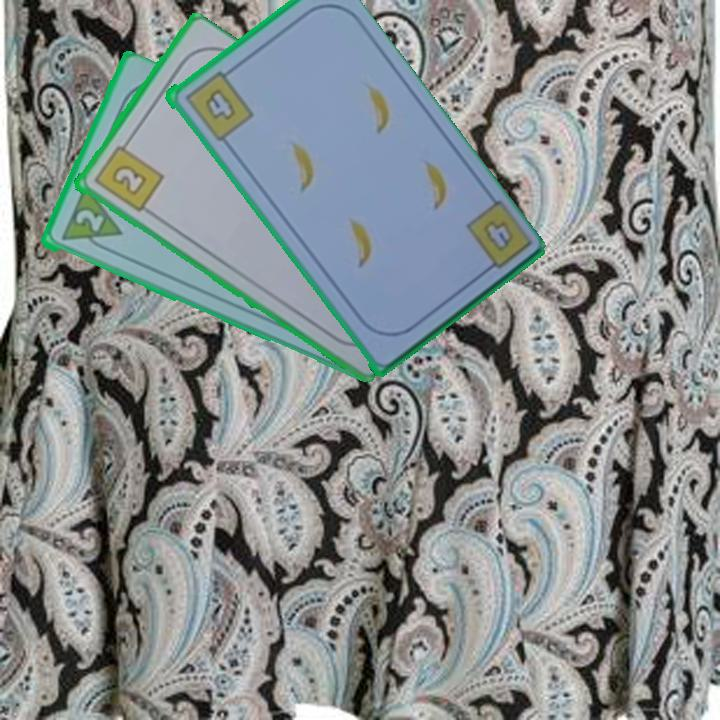2b: (90, 136, 166, 215)
2p: (57, 184, 124, 257)
4b: (180, 65, 256, 144), (460, 197, 533, 279)
